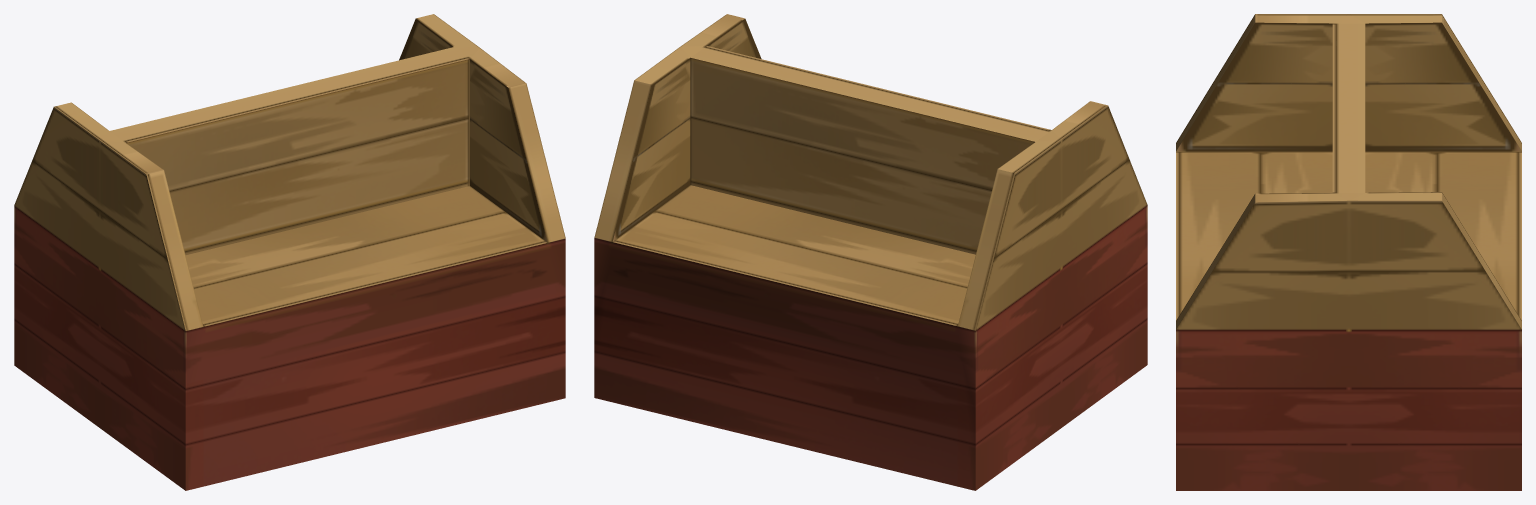
The model's file is Stalls.FBX.
3 renders of one model, left to right at view 1: azimuth 30°, elevation 25°; view 2: azimuth 150°, elevation 25°; view 3: azimuth 270°, elevation 25°, orthographic.
Visible parts, largest first — view 1: Box002; view 2: Box002; view 3: Box002.
Part boxes in pixels (left/top/right/bottom): Box002: left=14, top=14, right=565, bottom=490; Box002: left=594, top=14, right=1147, bottom=490; Box002: left=1176, top=14, right=1521, bottom=490.
Bounding box in the file's own units: 184 × 133 × 144.
